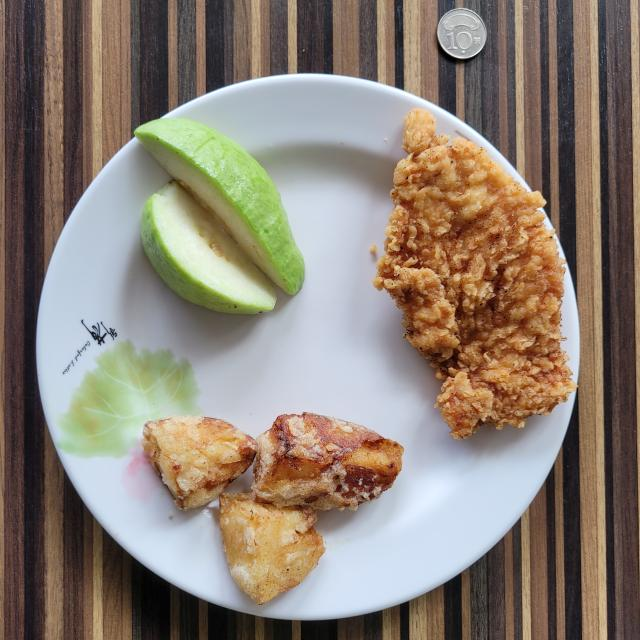coin: (438, 8, 486, 60)
fried chicken cutlet: (372, 109, 576, 439)
fried potato: (141, 412, 404, 604)
guava -sliced-: (134, 118, 305, 314)
